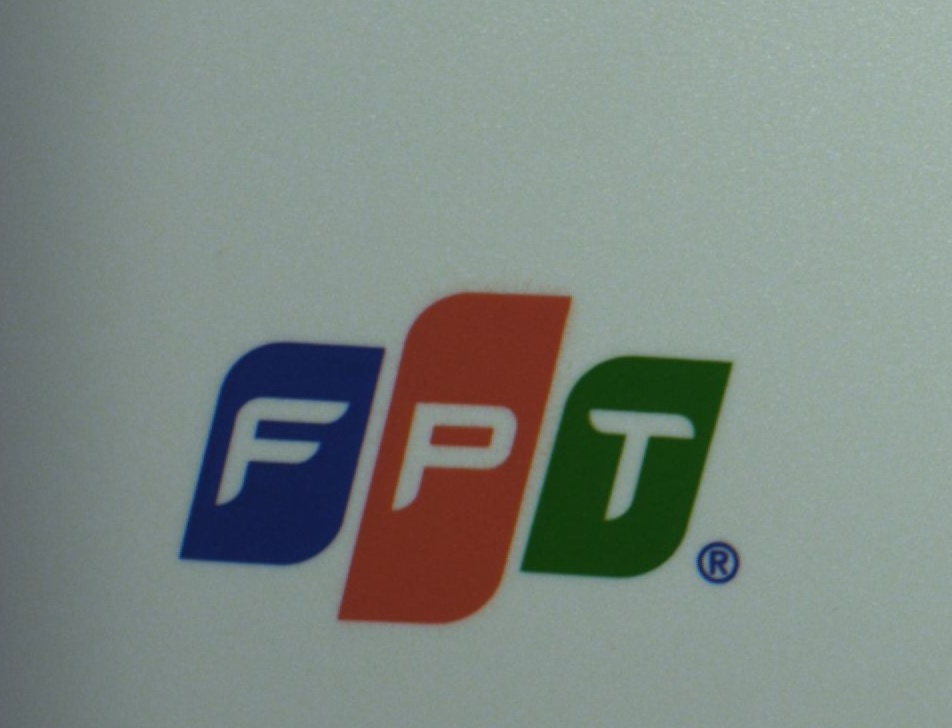BR_FPT: (169, 286, 741, 630)
